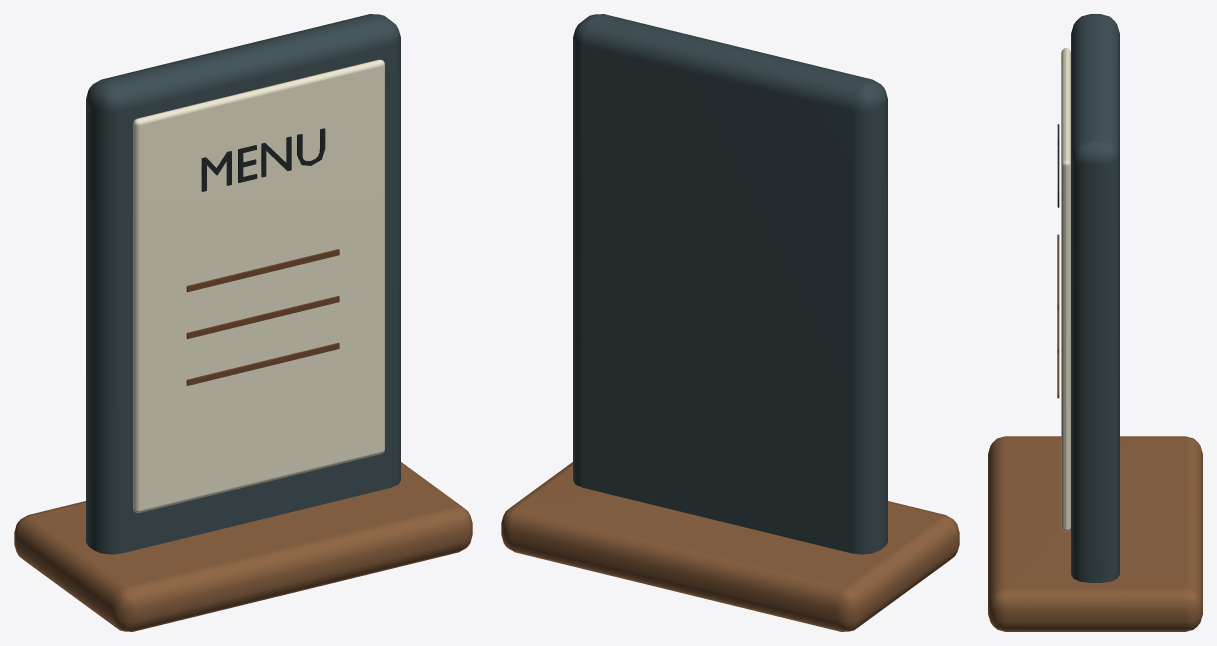
Rendered from HotelTogether-TableMenu.glb.
The picture shows the model from 3 angles, left to right: view 1: azimuth 30°, elevation 25°; view 2: azimuth 150°, elevation 25°; view 3: azimuth 270°, elevation 25°; orthographic projection. The views are drawn at different scales.
Visible parts, largest first — view 1: Menu_Paper, Menu_Frame, Menu_Base, Menu_Title, Menu_Line.001, Menu_Line, Menu_Line.002; view 2: Menu_Frame, Menu_Base; view 3: Menu_Base, Menu_Frame, Menu_Paper.
Boxes of the visible parts, x1,y1,x2,y2 form: Menu_Paper: (133, 59, 384, 512); Menu_Frame: (86, 14, 400, 554); Menu_Base: (14, 462, 472, 631); Menu_Title: (201, 128, 325, 191); Menu_Line.001: (186, 296, 339, 338); Menu_Line: (186, 249, 339, 292); Menu_Line.002: (186, 342, 339, 385); Menu_Frame: (573, 14, 887, 554); Menu_Base: (501, 462, 959, 631); Menu_Base: (988, 436, 1202, 631); Menu_Frame: (1071, 14, 1119, 582); Menu_Paper: (1061, 48, 1070, 531).
Bounding box in the file's own units: 0.2 × 0.27 × 0.11.
